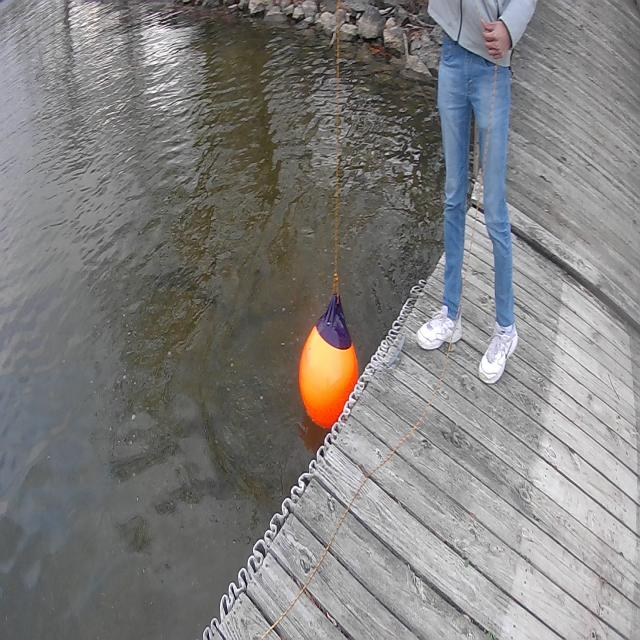Buoy: (298, 284, 366, 454)
